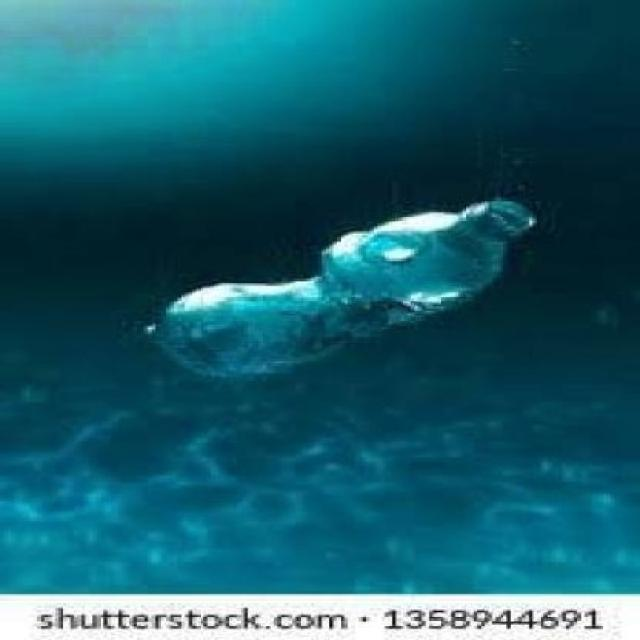pbottle: (126, 198, 543, 390)
